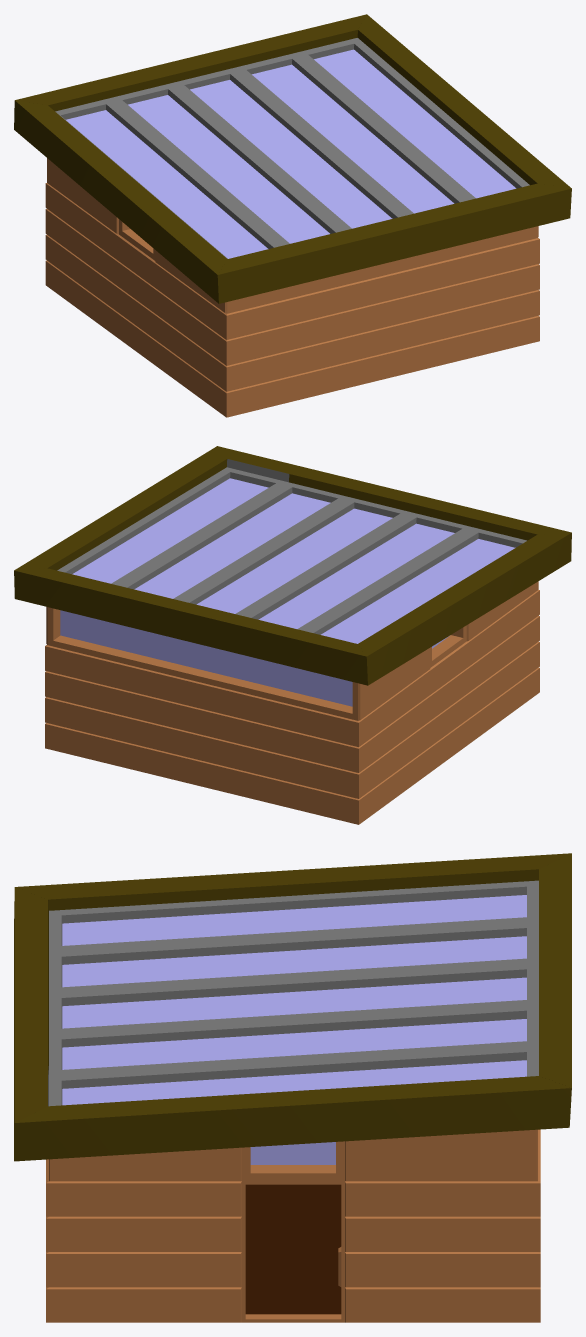
Rendered from Public toilet.FBX.
3 views of the same model, one above another, from view 1: azimuth 30°, elevation 25°; view 2: azimuth 150°, elevation 25°; view 3: azimuth 270°, elevation 25° (orthographic). The views are drawn at different scales.
Parts seen in each view (by area): view 1: Public toilet; view 2: Public toilet; view 3: Public toilet.
Boxes of the visible parts, left/top/right/bottom form: Public toilet: left=14, top=14, right=571, bottom=417; Public toilet: left=14, top=446, right=571, bottom=824; Public toilet: left=14, top=853, right=571, bottom=1322.
Bounding box in the file's own units: 360 × 177 × 359.
1 material, 1 textured.
